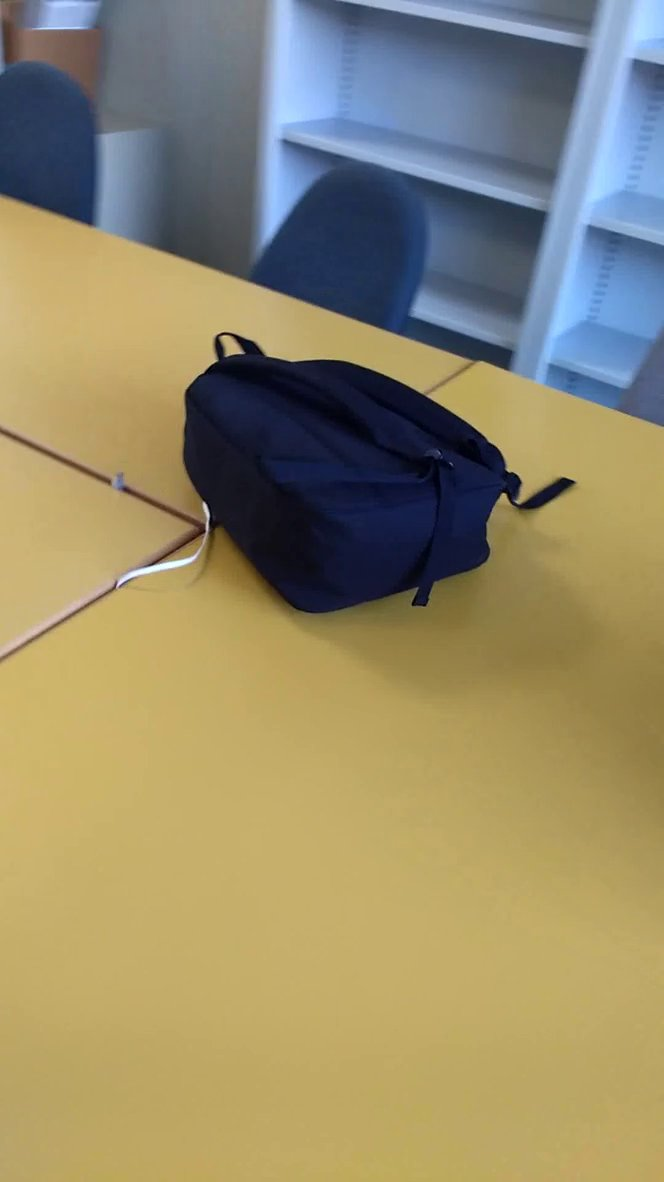bag: (171, 328, 591, 626)
chair: (243, 151, 449, 366), (1, 47, 107, 236)
